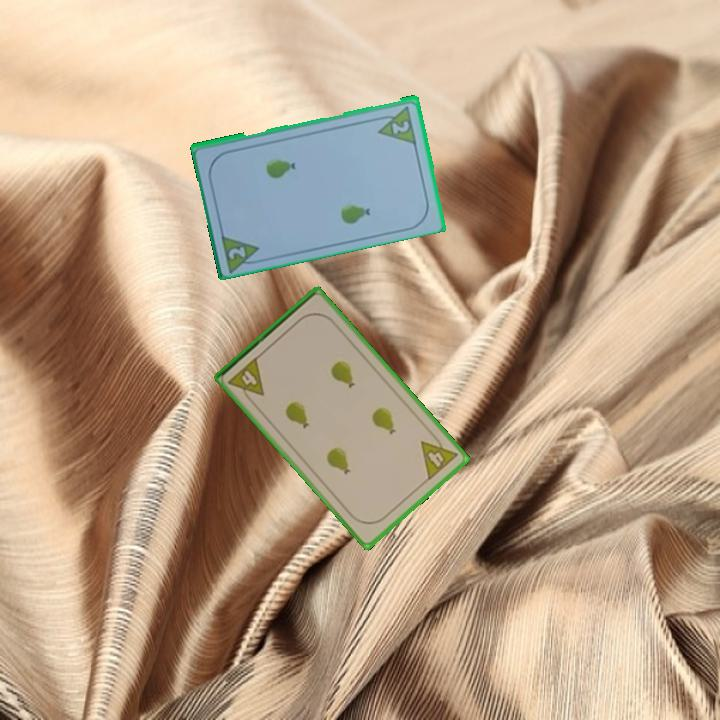2p: (225, 242, 249, 262), (389, 117, 413, 136)
4p: (417, 429, 461, 483), (224, 353, 268, 406)
